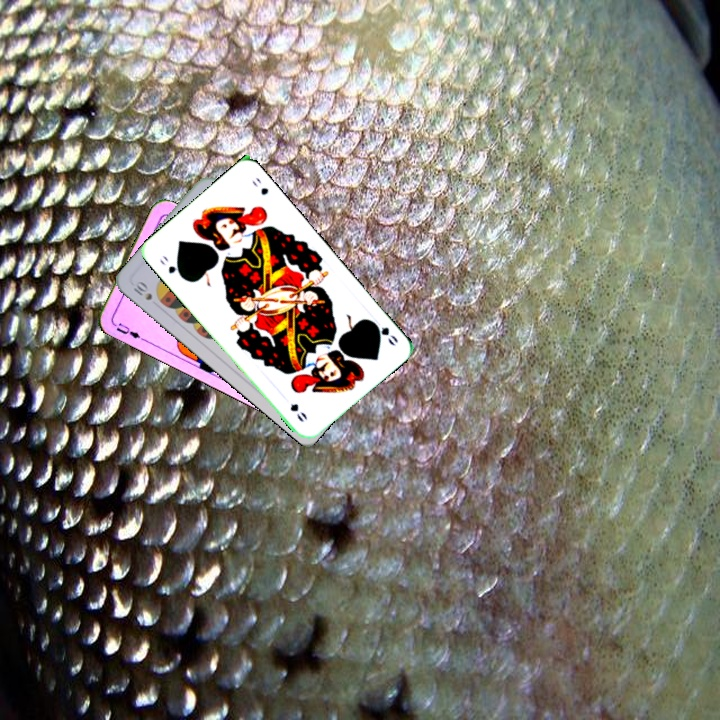EU: (112, 319, 143, 341)
GO: (367, 313, 401, 349), (156, 251, 186, 281)
S10: (129, 277, 155, 303)
